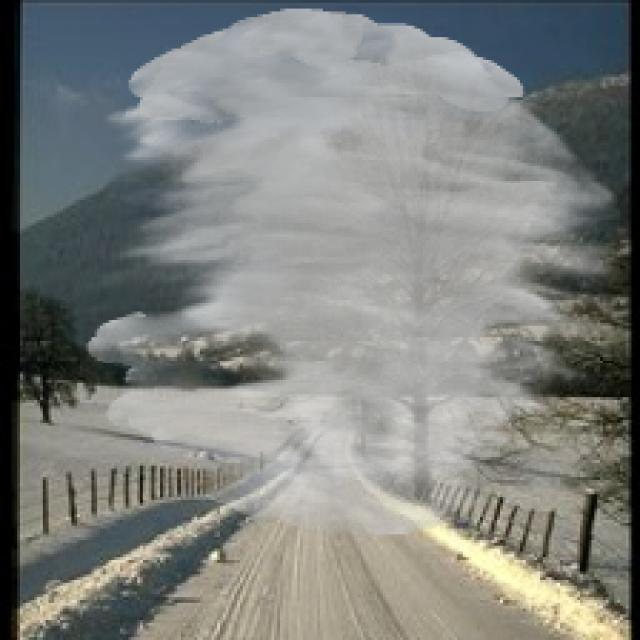Smoke: (86, 9, 623, 538)
